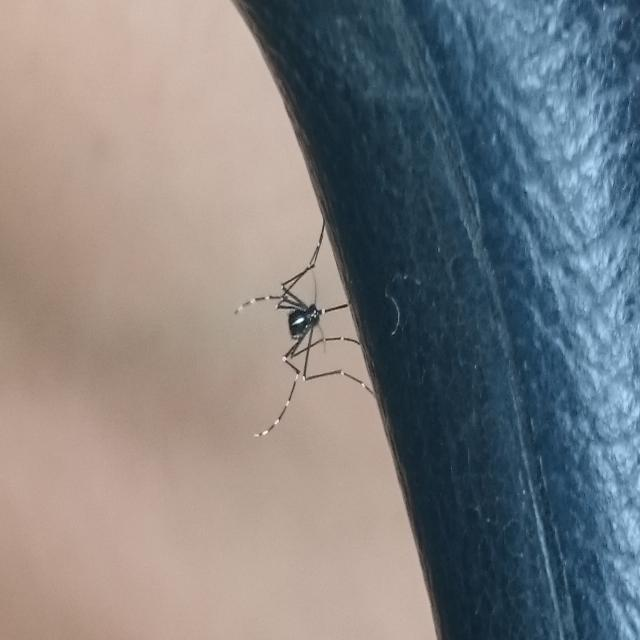albopictus: (230, 213, 376, 450)
